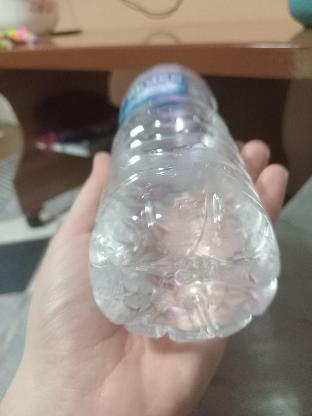Plastic Bottle: (83, 62, 281, 348)
